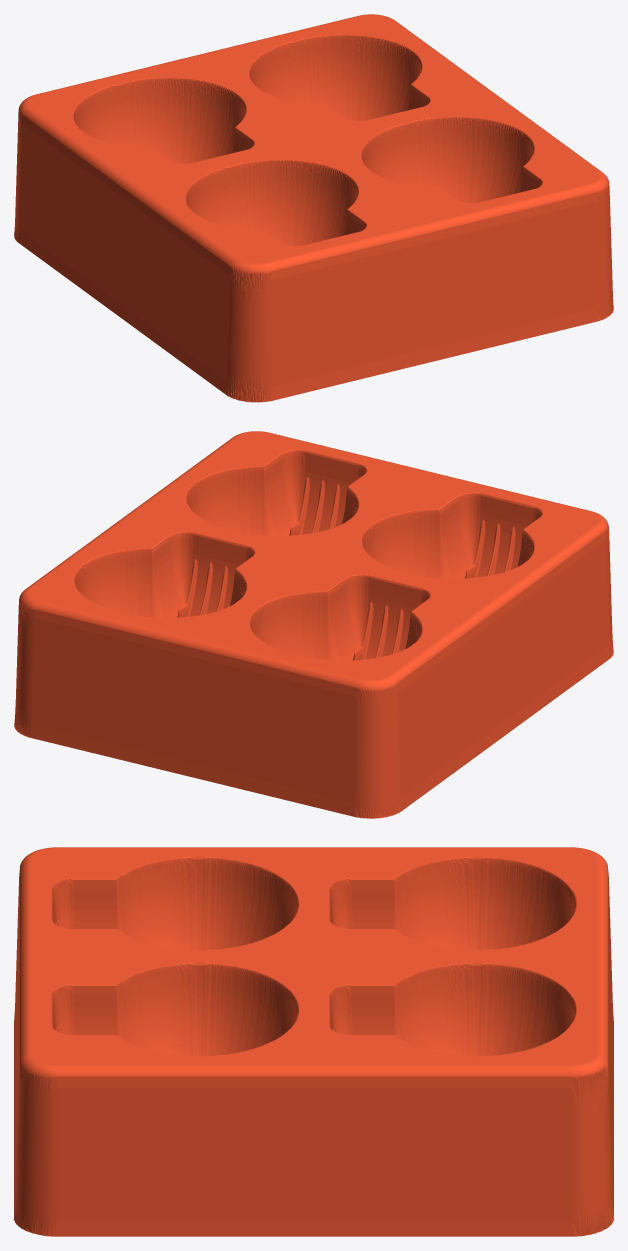
Rendered from mold.glb.
3 renders of one model, top to bottom at view 1: azimuth 30°, elevation 25°; view 2: azimuth 150°, elevation 25°; view 3: azimuth 270°, elevation 25°, orthographic. The views are drawn at different scales.
Parts seen in each view (by area): view 1: geometry_0; view 2: geometry_0; view 3: geometry_0.
Part boxes in pixels (x1,y1,x2,y2): geometry_0: (14,14,613,402); geometry_0: (14,431,613,818); geometry_0: (14,847,613,1236).
Bounding box in the file's own units: 0.1138 × 0.0377 × 0.1248.
